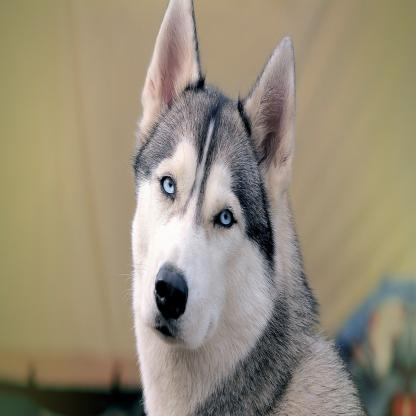husky: (130, 1, 366, 416)
